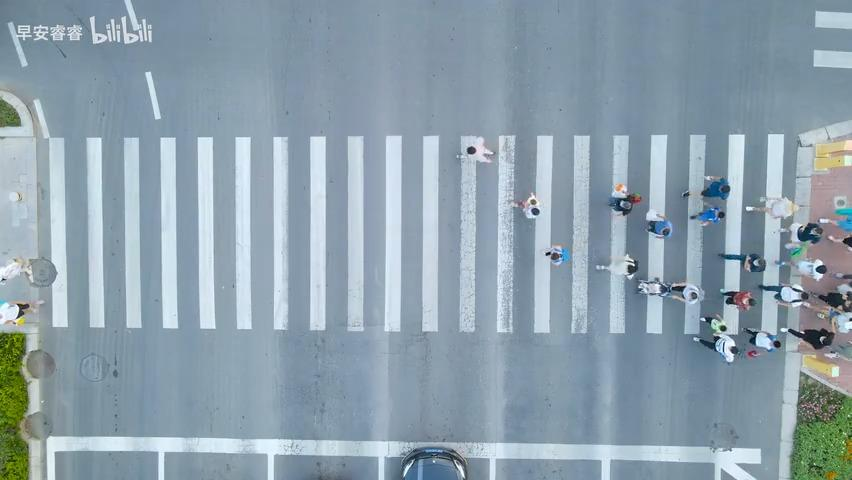Civilian: (774, 254, 830, 284), (693, 337, 740, 367), (780, 326, 835, 351), (744, 195, 800, 219), (758, 282, 810, 307), (595, 252, 639, 279), (681, 175, 730, 199), (0, 299, 45, 325), (607, 183, 641, 216), (741, 326, 781, 351), (717, 252, 766, 272), (637, 277, 686, 297), (694, 310, 733, 335), (510, 191, 541, 219), (0, 256, 32, 283), (719, 288, 756, 311), (644, 208, 672, 238), (464, 135, 494, 163), (788, 221, 823, 244), (689, 206, 725, 227), (544, 244, 569, 266), (827, 233, 851, 250)
